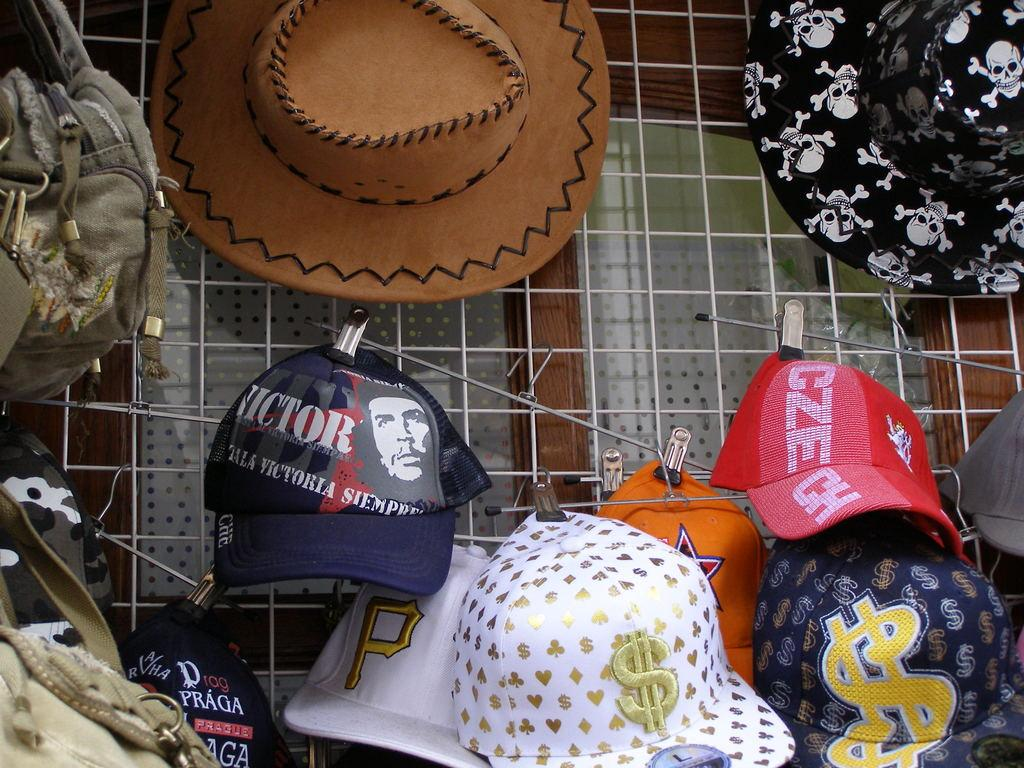Hat: (115, 346, 1023, 766), (146, 0, 614, 302), (744, 0, 1023, 296), (0, 420, 96, 653)
